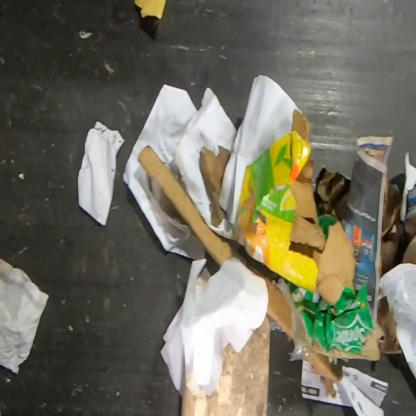cardboard: (138, 146, 294, 342), (234, 109, 357, 292), (180, 314, 271, 416), (287, 275, 386, 361), (378, 176, 415, 281), (199, 146, 231, 228), (304, 343, 347, 398), (313, 165, 352, 221), (377, 297, 403, 354), (316, 203, 338, 238), (134, 0, 167, 19)
soft_plastic: (274, 277, 310, 361)
